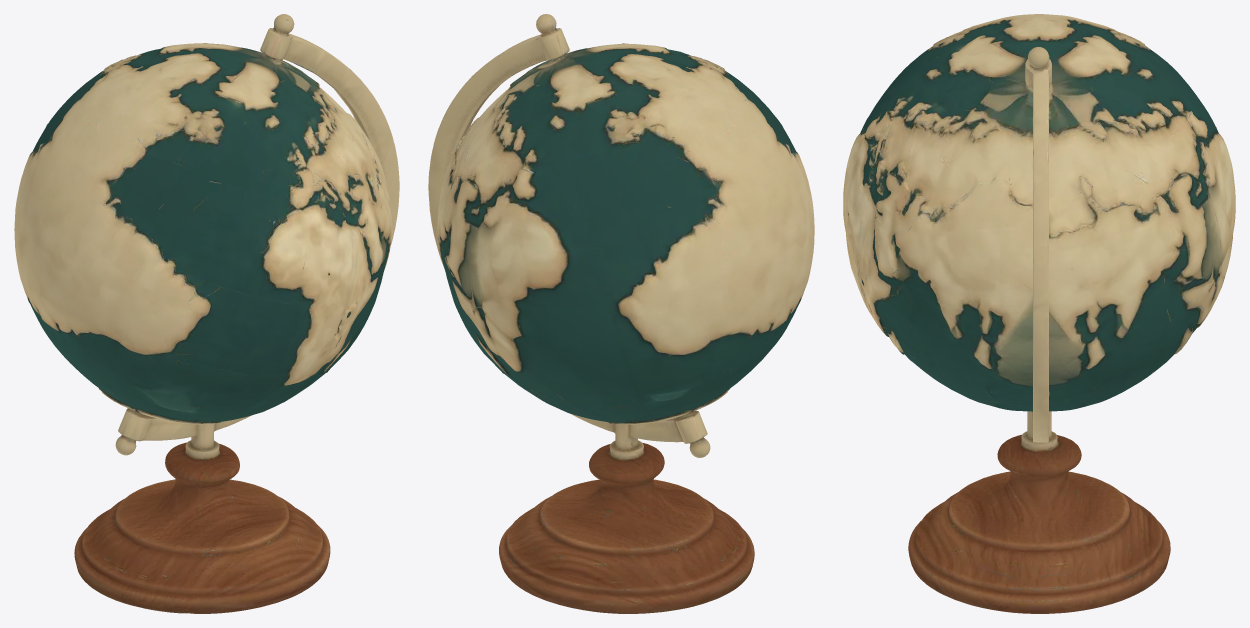
File: globe.glb
3 views of the same model, side by side, from view 1: azimuth 30°, elevation 25°; view 2: azimuth 150°, elevation 25°; view 3: azimuth 270°, elevation 25° (orthographic). The views are drawn at different scales.
Parts seen in each view (by area): view 1: Mesh_0; view 2: Mesh_0; view 3: Mesh_0.
Boxes of the visible parts, x1,y1,x2,y2 form: Mesh_0: (14, 14, 399, 613); Mesh_0: (428, 14, 814, 613); Mesh_0: (843, 14, 1235, 613).
Size of the model in its own units: 1.34 by 1.9 by 1.22.
Materials: 1 (1 with a texture image).
